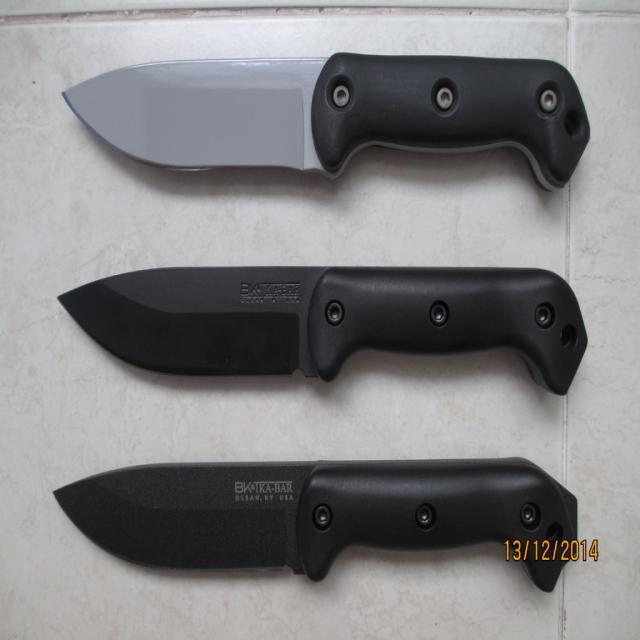Knife: (64, 52, 590, 188), (55, 458, 579, 591), (59, 268, 586, 393)
